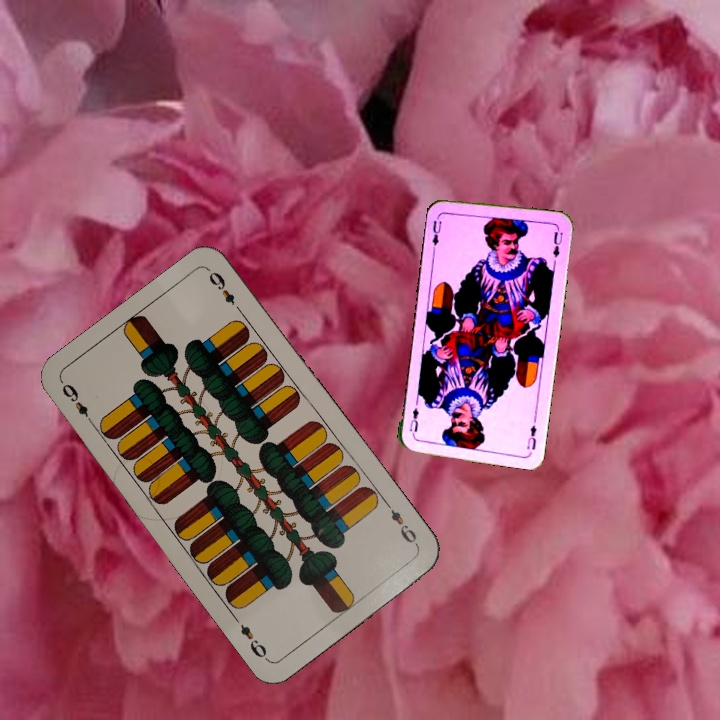E9: (57, 379, 98, 430), (381, 498, 421, 549)
EU: (428, 210, 449, 251), (523, 421, 539, 452)
